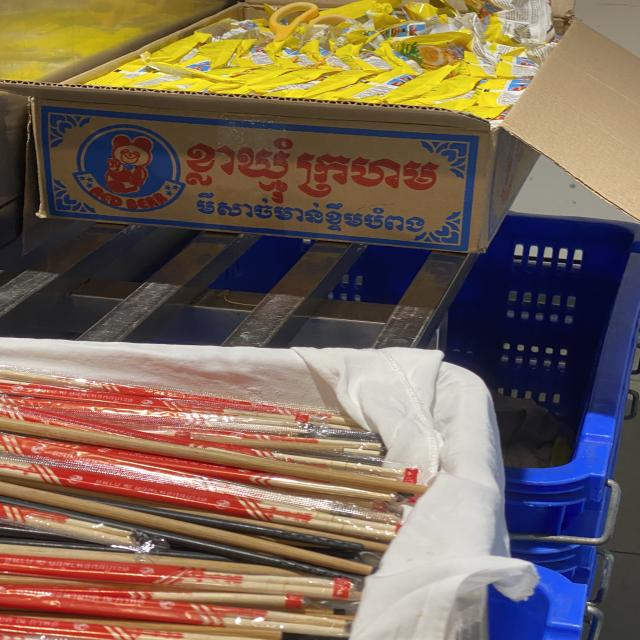Yolov11_80vkh: (164, 132, 458, 214), (187, 190, 438, 240)
